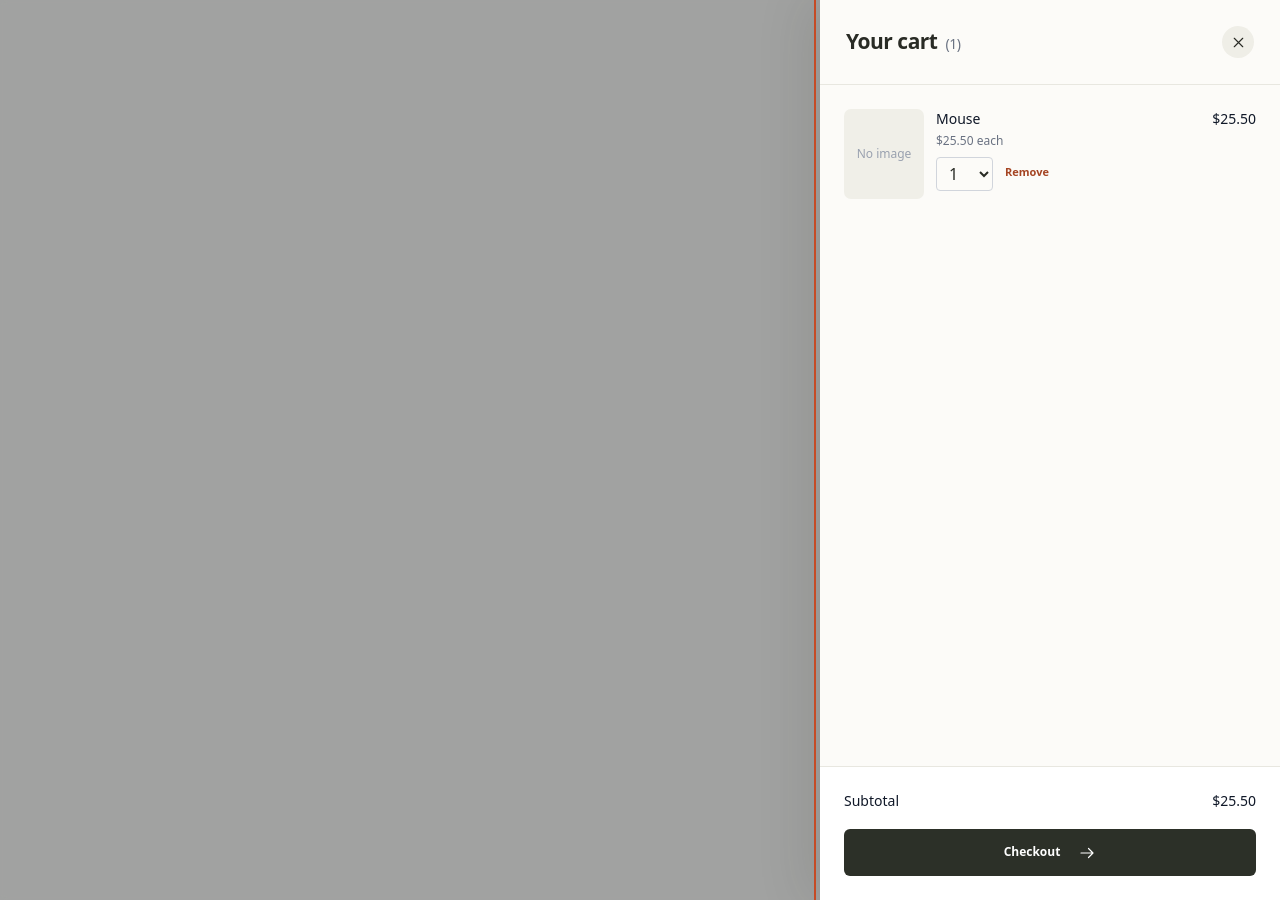
Scenario: CartDrawer › removes an item and drops back to the empty state
The width and height of the screenshot is (1280, 900).
What coordinates should you click on to do the following:
click the button "Remove"
I would click on:
 (1027, 174)
Its box is [1005,164,1049,184].
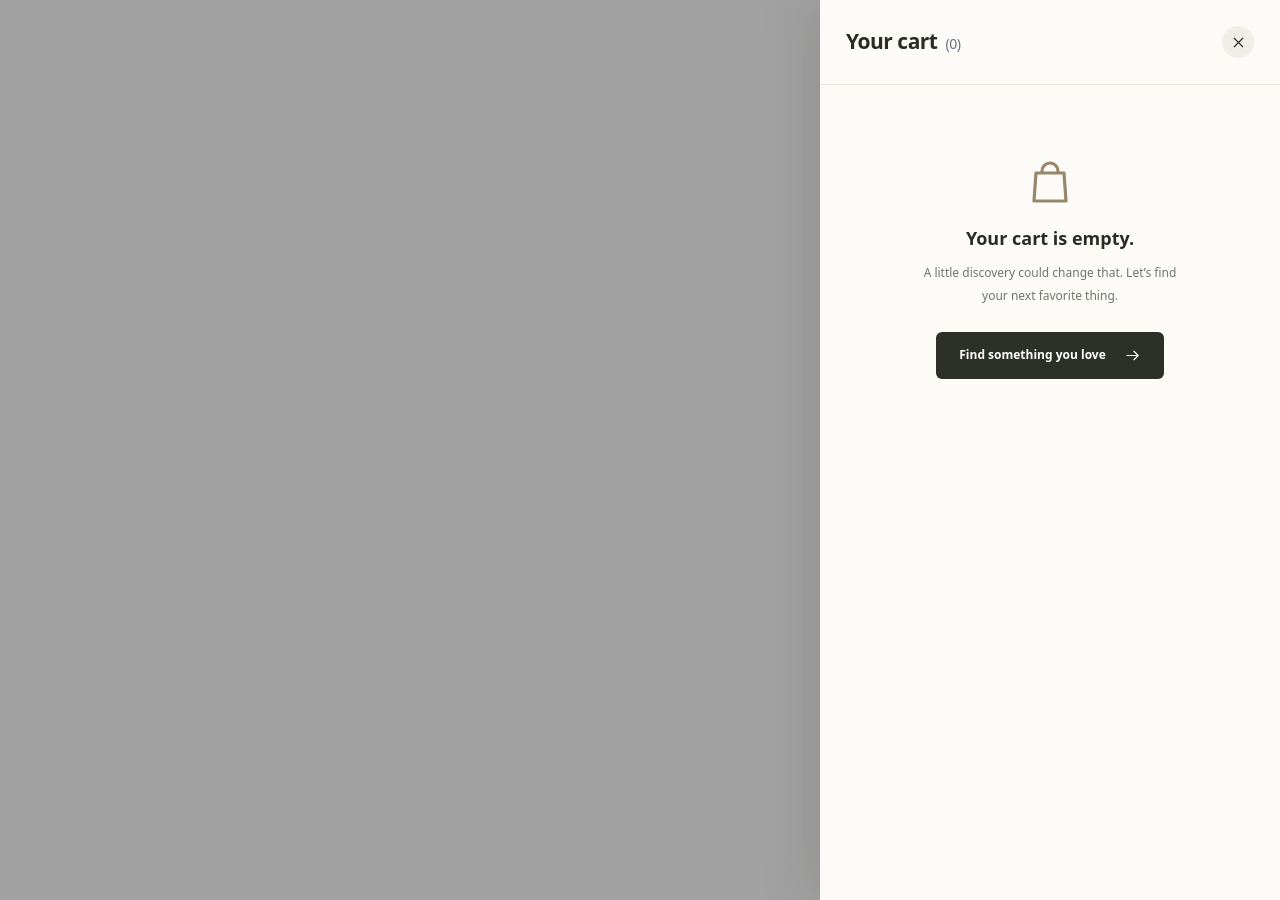
Now the text "Your cart is empty." is shown, box [966,225,1134,252]
